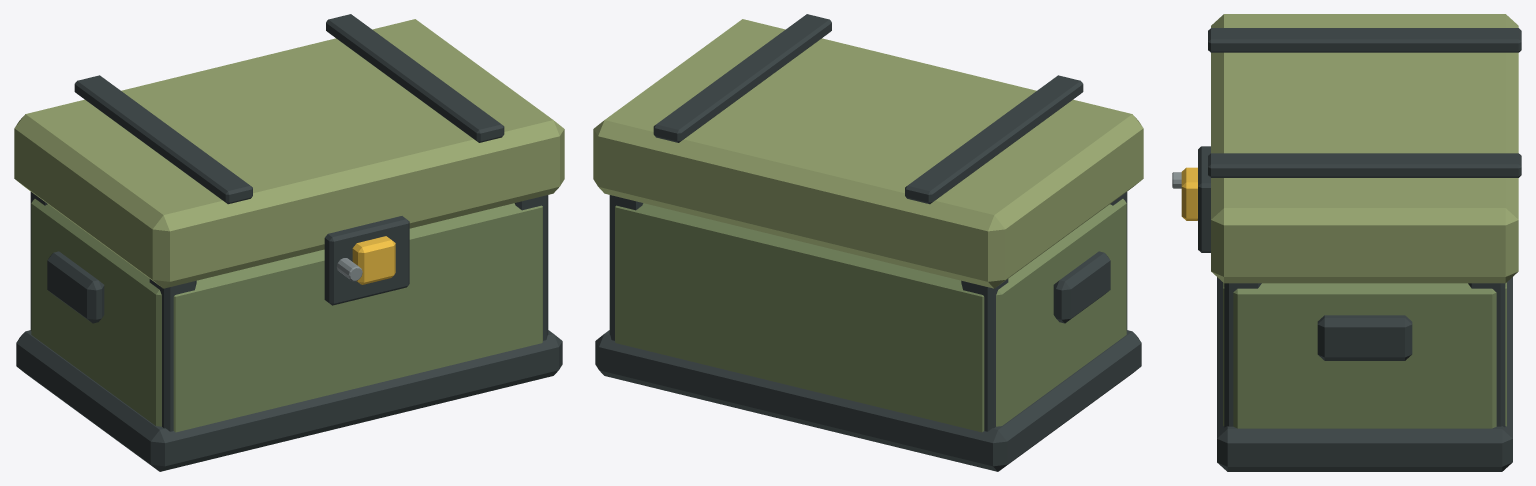
The model's file is supply_cache.glb.
The picture shows the model from 3 angles, left to right: view 1: azimuth 30°, elevation 25°; view 2: azimuth 150°, elevation 25°; view 3: azimuth 270°, elevation 25°; orthographic projection. The views are drawn at different scales.
Visible parts, largest first — view 1: supply_cache_lid, supply_cache_body, supply_cache_lower_skirt, supply_cache_lid_rib_0, supply_cache_lid_rib_1, supply_cache_latch_plate, supply_cache_side_handle_0, supply_cache_corner_0_0, supply_cache_latch_handle, supply_cache_corner_1_0; view 2: supply_cache_lid, supply_cache_body, supply_cache_lower_skirt, supply_cache_lid_rib_0, supply_cache_lid_rib_1, supply_cache_side_handle_0, supply_cache_corner_0_1, supply_cache_corner_1_1; view 3: supply_cache_lid, supply_cache_body, supply_cache_lower_skirt, supply_cache_lid_rib_0, supply_cache_lid_rib_1, supply_cache_side_handle_1, supply_cache_corner_1_1, supply_cache_corner_1_0, supply_cache_latch_plate, supply_cache_latch_handle.
Boxes of the visible parts, x1,y1,x2,y2 form: supply_cache_lid: [14, 19, 564, 288]; supply_cache_body: [31, 199, 542, 432]; supply_cache_lower_skirt: [16, 330, 562, 471]; supply_cache_lid_rib_0: [74, 75, 252, 204]; supply_cache_lid_rib_1: [326, 14, 504, 142]; supply_cache_latch_plate: [324, 216, 409, 305]; supply_cache_side_handle_0: [47, 251, 104, 323]; supply_cache_corner_0_0: [149, 279, 196, 431]; supply_cache_latch_handle: [352, 236, 395, 284]; supply_cache_corner_1_0: [514, 195, 548, 340]; supply_cache_lid: [593, 19, 1143, 288]; supply_cache_body: [615, 199, 1126, 432]; supply_cache_lower_skirt: [595, 330, 1141, 471]; supply_cache_lid_rib_0: [905, 75, 1083, 204]; supply_cache_lid_rib_1: [653, 14, 831, 142]; supply_cache_side_handle_0: [1053, 251, 1110, 323]; supply_cache_corner_0_1: [961, 279, 1008, 431]; supply_cache_corner_1_1: [609, 195, 643, 340]; supply_cache_lid: [1211, 14, 1518, 283]; supply_cache_body: [1223, 282, 1506, 428]; supply_cache_lower_skirt: [1217, 277, 1512, 471]; supply_cache_lid_rib_0: [1208, 28, 1521, 52]; supply_cache_lid_rib_1: [1208, 153, 1521, 177]; supply_cache_side_handle_1: [1317, 315, 1412, 360]; supply_cache_corner_1_1: [1468, 283, 1505, 427]; supply_cache_corner_1_0: [1224, 283, 1261, 427]; supply_cache_latch_plate: [1198, 146, 1210, 252]; supply_cache_latch_handle: [1181, 167, 1197, 220].
Bounding box in the file's own units: 0.885 × 0.5225 × 0.5905.
